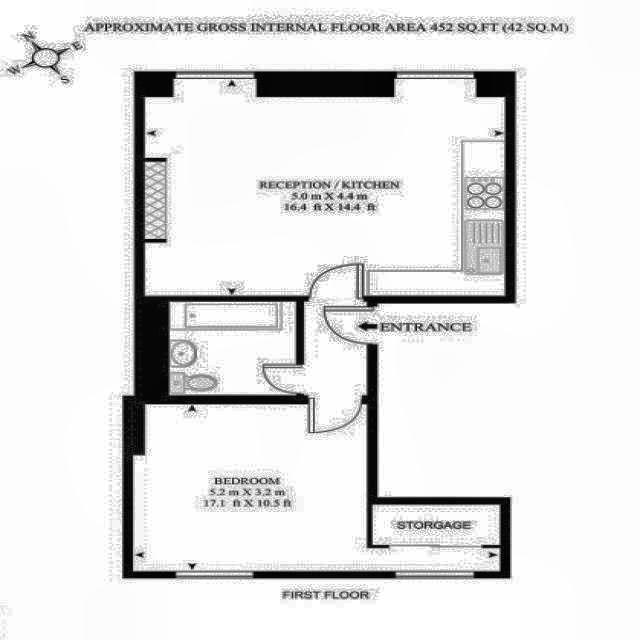room: (144, 79, 506, 296), (133, 404, 500, 571), (170, 302, 296, 396), (304, 301, 366, 396)
